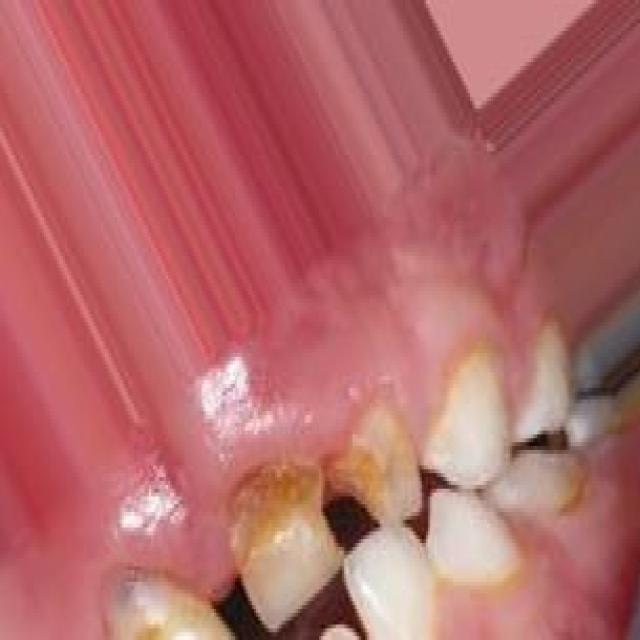caries: (224, 441, 340, 615), (330, 397, 420, 541)
